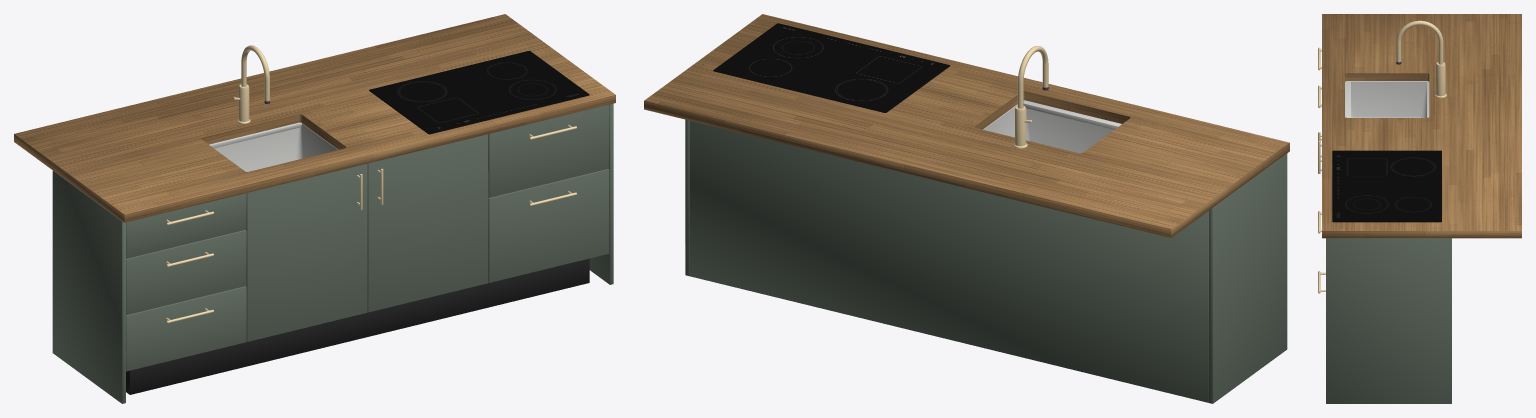
File: kueche.glb
3 renders of one model, left to right at view 1: azimuth 30°, elevation 25°; view 2: azimuth 150°, elevation 25°; view 3: azimuth 270°, elevation 25°, orthographic. The views are drawn at different scales.
Parts seen in each view (by area): view 1: platte, tuer_1, tuer_2, wange_l, sockel, lade_3_0_front, kochfeld, lade_3_1_front, lade_0_0_front, lade_0_1_front, lade_0_2_front, becken (+2 smaller); view 2: wange_hinten, platte, wange_l, kochfeld, becken, korpus_1_trav_v, wange_r, armatur_auslauf; view 3: platte, wange_r, kochfeld, becken, armatur_auslauf, armatur_koerper, korpus_1_trav_v.
Boxes of the visible parts, left/top/right/bottom form: platte: left=14, top=14, right=615, bottom=222; tuer_1: left=246, top=163, right=367, bottom=341; tuer_2: left=367, top=134, right=488, bottom=312; wange_l: left=52, top=171, right=125, bottom=403; sockel: left=129, top=258, right=589, bottom=394; lade_3_0_front: left=488, top=169, right=609, bottom=282; kochfeld: left=369, top=51, right=589, bottom=134; lade_3_1_front: left=488, top=104, right=609, bottom=197; lade_0_0_front: left=126, top=286, right=246, bottom=371; lade_0_1_front: left=126, top=230, right=246, bottom=314; lade_0_2_front: left=126, top=193, right=246, bottom=258; becken: left=214, top=123, right=338, bottom=171; wange_hinten: left=689, top=121, right=1208, bottom=402; platte: left=644, top=14, right=1289, bottom=237; wange_l: left=1209, top=153, right=1287, bottom=403; kochfeld: left=713, top=23, right=950, bottom=112; becken: left=983, top=104, right=1113, bottom=153; korpus_1_trav_v: left=1023, top=100, right=1121, bottom=129; wange_r: left=685, top=119, right=689, bottom=276; armatur_auslauf: left=1017, top=46, right=1048, bottom=108; platte: left=1322, top=14, right=1521, bottom=238; wange_r: left=1326, top=238, right=1451, bottom=403; kochfeld: left=1332, top=150, right=1441, bottom=222; becken: left=1351, top=81, right=1426, bottom=117; armatur_auslauf: left=1396, top=20, right=1443, bottom=64; armatur_koerper: left=1436, top=62, right=1445, bottom=96; korpus_1_trav_v: left=1345, top=81, right=1350, bottom=117.
Size of the model in its own units: 2.44 by 1.3 by 0.9673.
10 materials, 2 textured.
